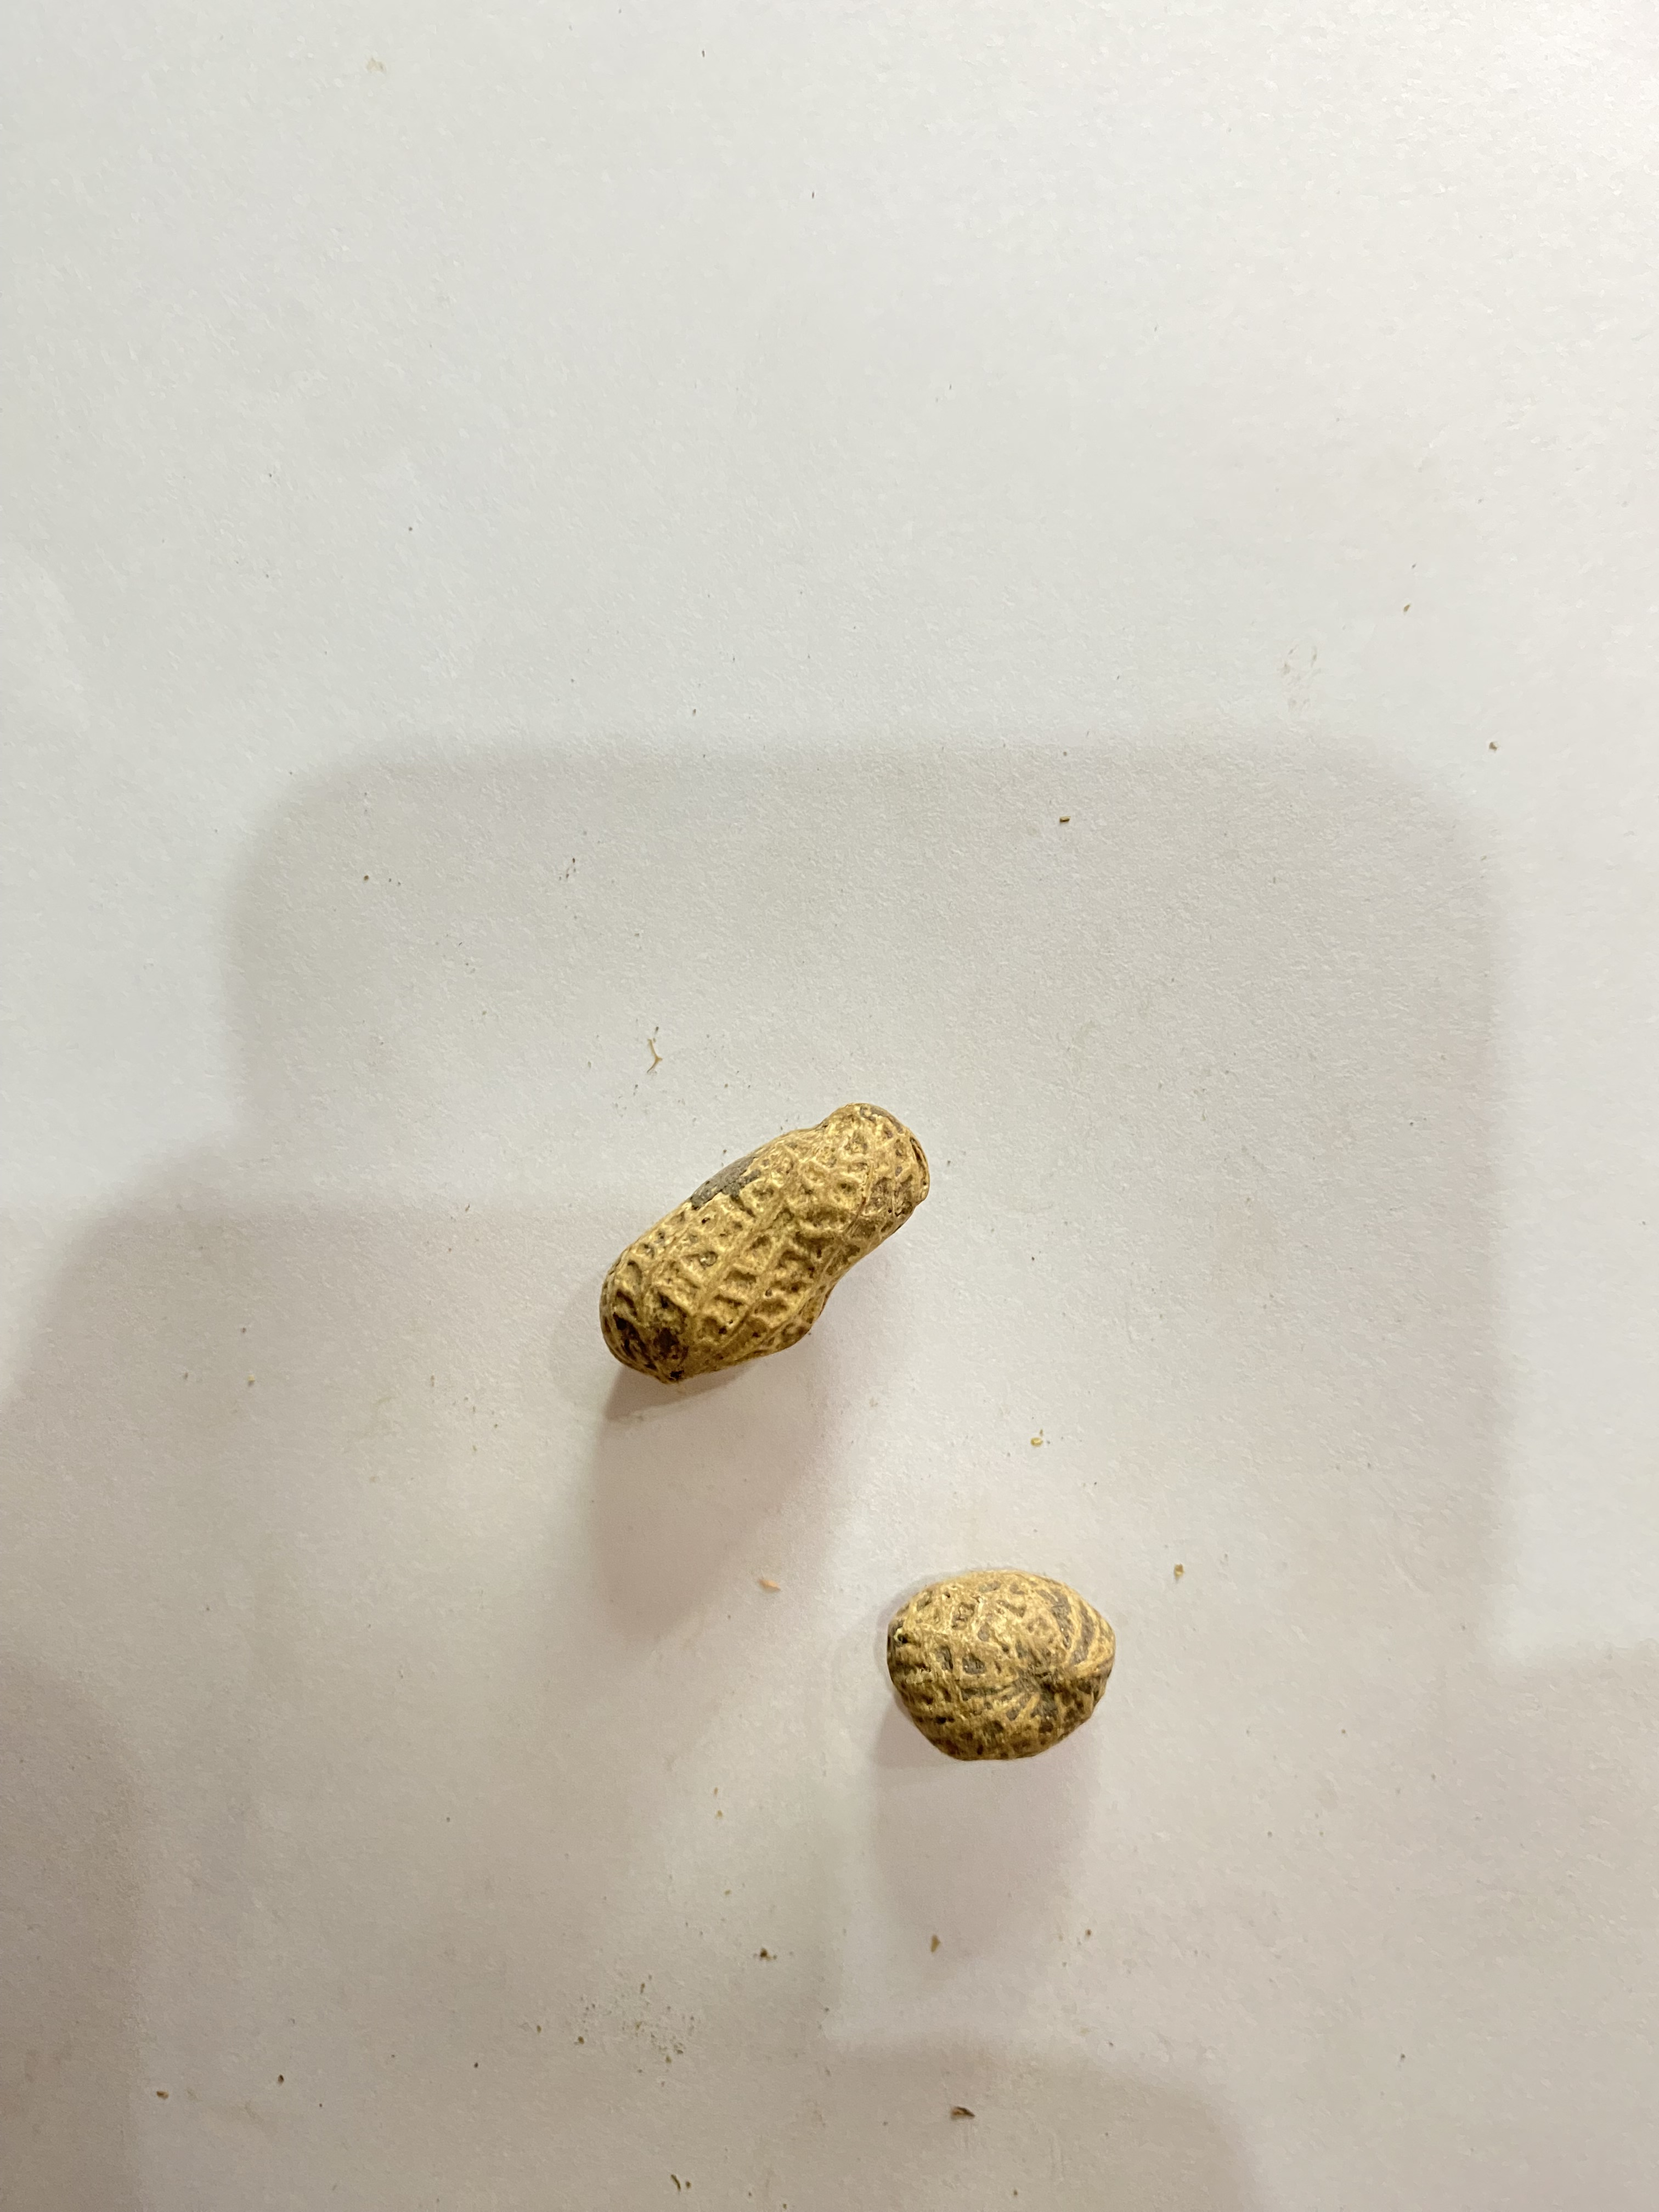kacang1: (803, 1562, 1147, 1789)
kacang2: (594, 1024, 988, 1425)
